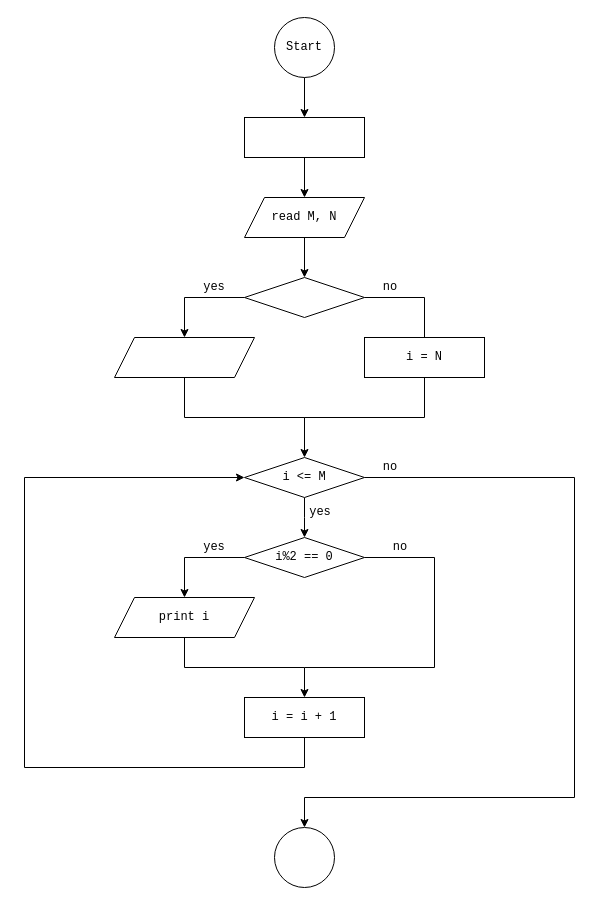
Some shapes in this 600 by 905 pixel diagram are drawn without their labels. Each missing label, with the centre of its shape:
End: [304,857]
i = 0: [304,137]
M < N: [304,297]
print "reves": [184,357]
